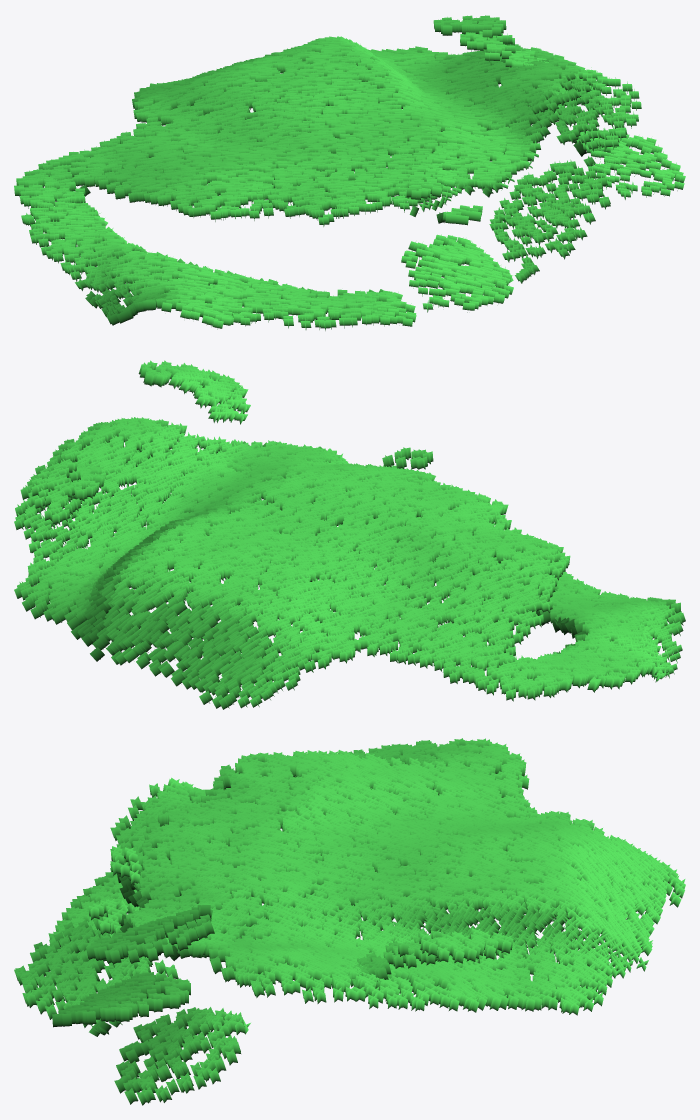
The model's file is TerrainGrass.fbx.
3 views of the same model, one above another, from view 1: azimuth 30°, elevation 25°; view 2: azimuth 150°, elevation 25°; view 3: azimuth 270°, elevation 25° (orthographic). The views are drawn at different scales.
Parts seen in each view (by area): view 1: terrain-grass; view 2: terrain-grass; view 3: terrain-grass.
Boxes of the visible parts, bbox=[...] form: terrain-grass: bbox=[14, 15, 685, 330]; terrain-grass: bbox=[14, 360, 685, 709]; terrain-grass: bbox=[14, 738, 685, 1105].
Size of the model in its own units: 39.71 by 10.56 by 32.36.
